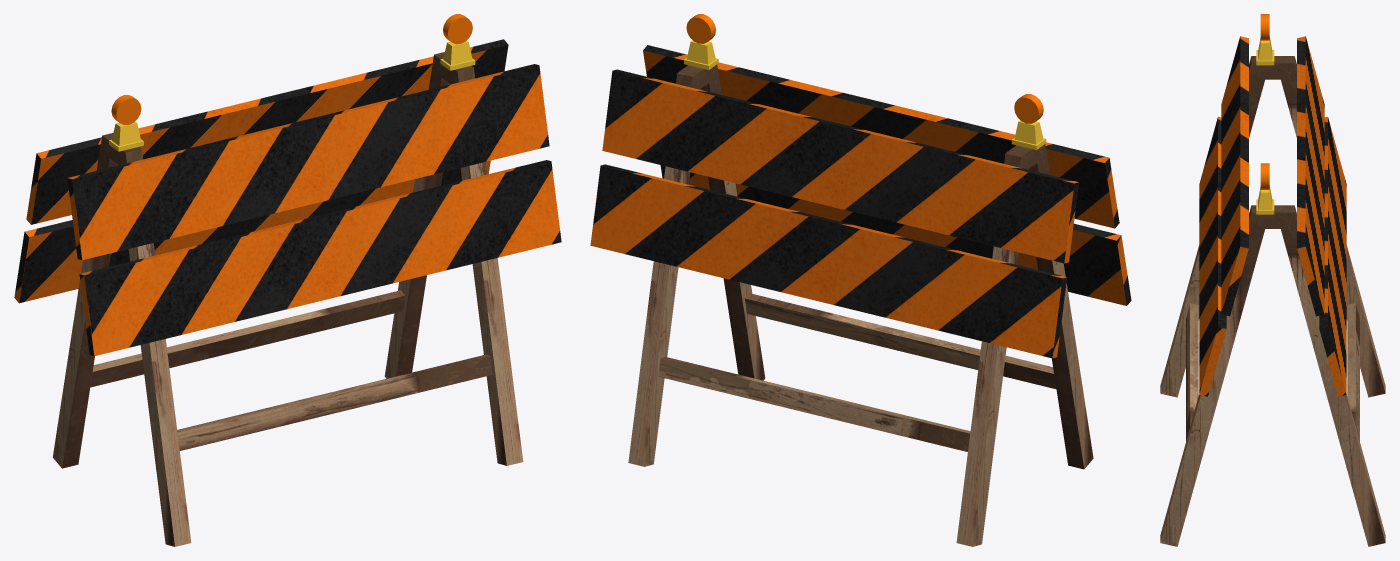
File: SM_blockadesign_01.glb
3 views of the same model, side by side, from view 1: azimuth 30°, elevation 25°; view 2: azimuth 150°, elevation 25°; view 3: azimuth 270°, elevation 25° (orthographic). The views are drawn at different scales.
Parts seen in each view (by area): view 1: SM_blockadesign_01; view 2: SM_blockadesign_01; view 3: SM_blockadesign_01.
Part boxes in pixels (bbox=[...]): SM_blockadesign_01: bbox=[14, 14, 561, 546]; SM_blockadesign_01: bbox=[590, 14, 1131, 546]; SM_blockadesign_01: bbox=[1160, 14, 1385, 546].
Bounding box in the file's own units: 2.92 × 2.45 × 1.32.
1 material, 1 textured.
